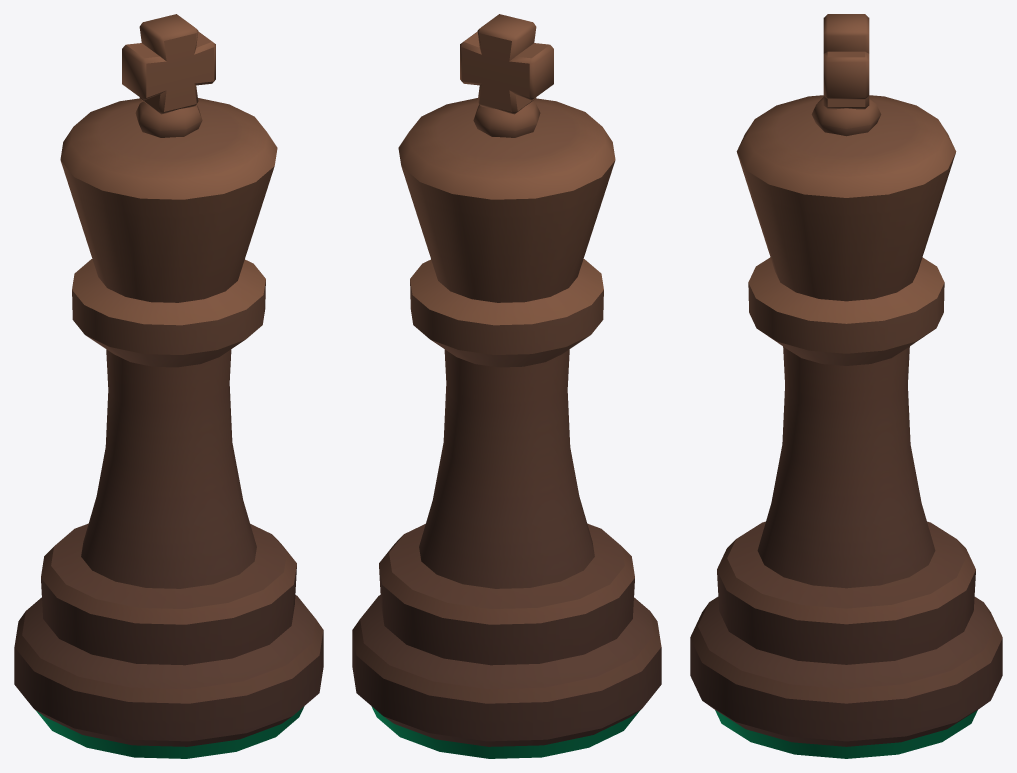
The model's file is chess_black_king.gltf.
The picture shows the model from 3 angles, left to right: view 1: azimuth 30°, elevation 25°; view 2: azimuth 150°, elevation 25°; view 3: azimuth 270°, elevation 25°; orthographic projection.
Parts seen in each view (by area): view 1: chess_black_king; view 2: chess_black_king; view 3: chess_black_king.
Boxes of the visible parts, x1,y1,x2,y2 form: chess_black_king: (14,14,323,758); chess_black_king: (352,14,661,758); chess_black_king: (690,14,1002,758).
Size of the model in its own units: 0.75 by 1.8 by 0.75.
1 material, 1 textured.
